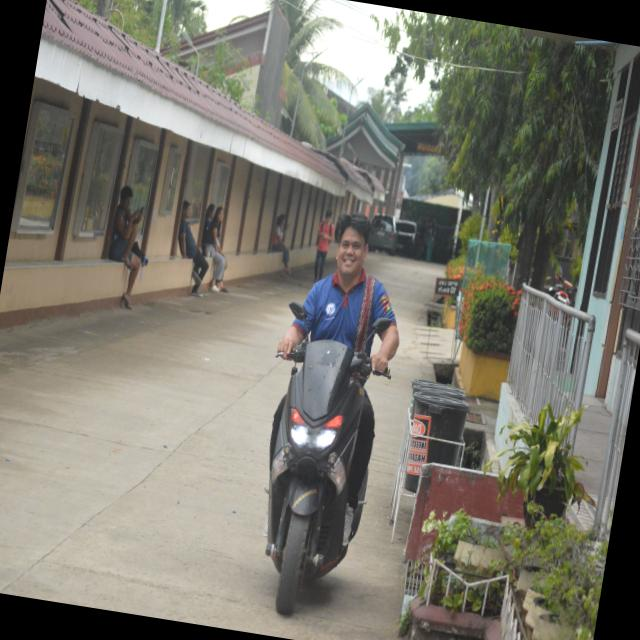person: (277, 214, 398, 371), (107, 186, 142, 309), (177, 201, 207, 296), (201, 207, 225, 292), (313, 209, 333, 282), (271, 214, 290, 274)
